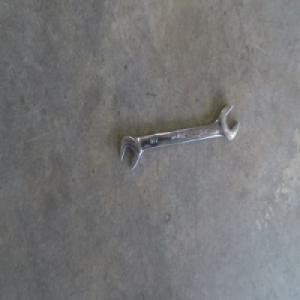Wrench: (119, 104, 239, 169)
